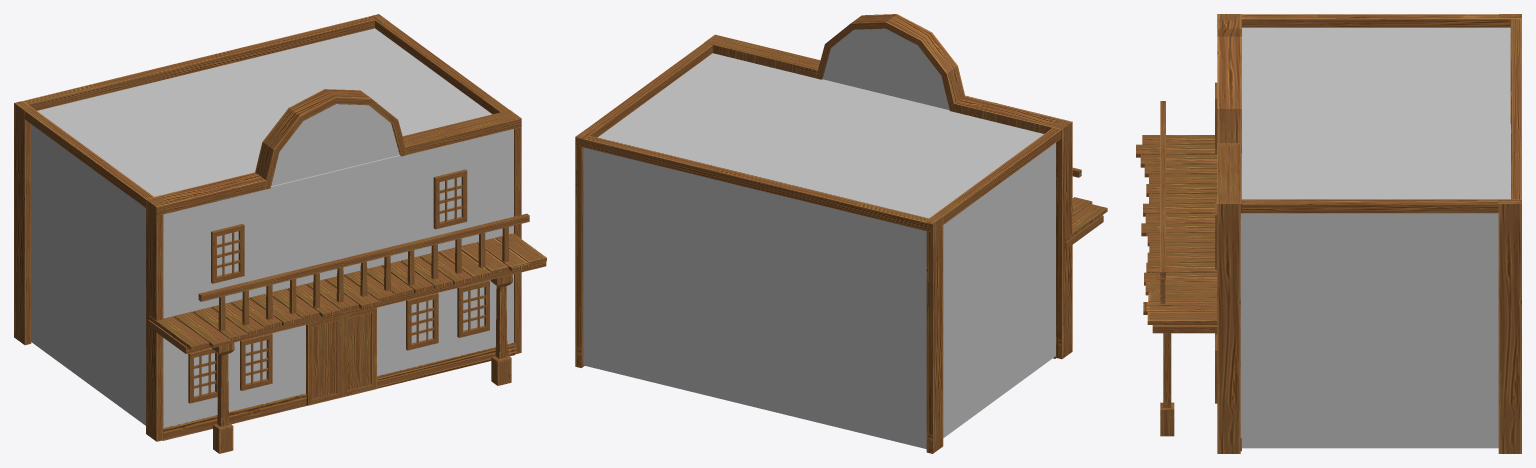
File: greenhouse_wall.fbx
3 views of the same model, side by side, from view 1: azimuth 30°, elevation 25°; view 2: azimuth 150°, elevation 25°; view 3: azimuth 270°, elevation 25° (orthographic). The views are drawn at different scales.
Visible parts, largest first — view 1: Cylinder.006, 4x4.023; view 2: Cylinder.006, 4x4.023; view 3: Cylinder.006, 4x4.023.
Part boxes in pixels (<box>): Cylinder.006: <box>31,28,513,427</box>; 4x4.023: <box>14,14,546,453</box>; Cylinder.006: <box>583,28,1055,448</box>; 4x4.023: <box>575,14,1107,453</box>; Cylinder.006: <box>1240,27,1510,448</box>; 4x4.023: <box>1136,14,1521,453</box>.
Bounding box in the file's own units: 1326 × 1046 × 1136.
